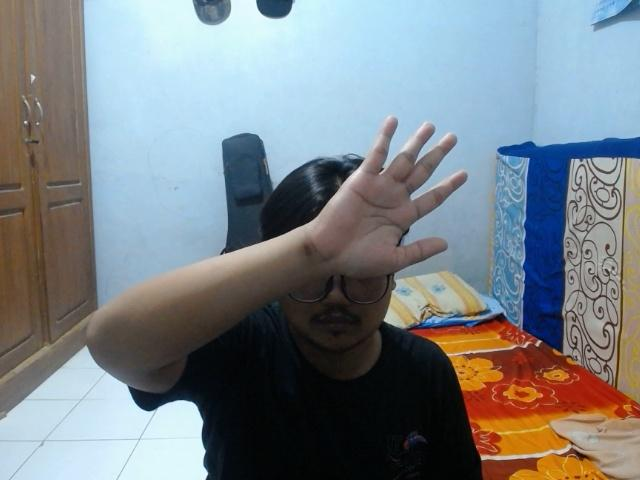Release: (312, 107, 472, 279)
